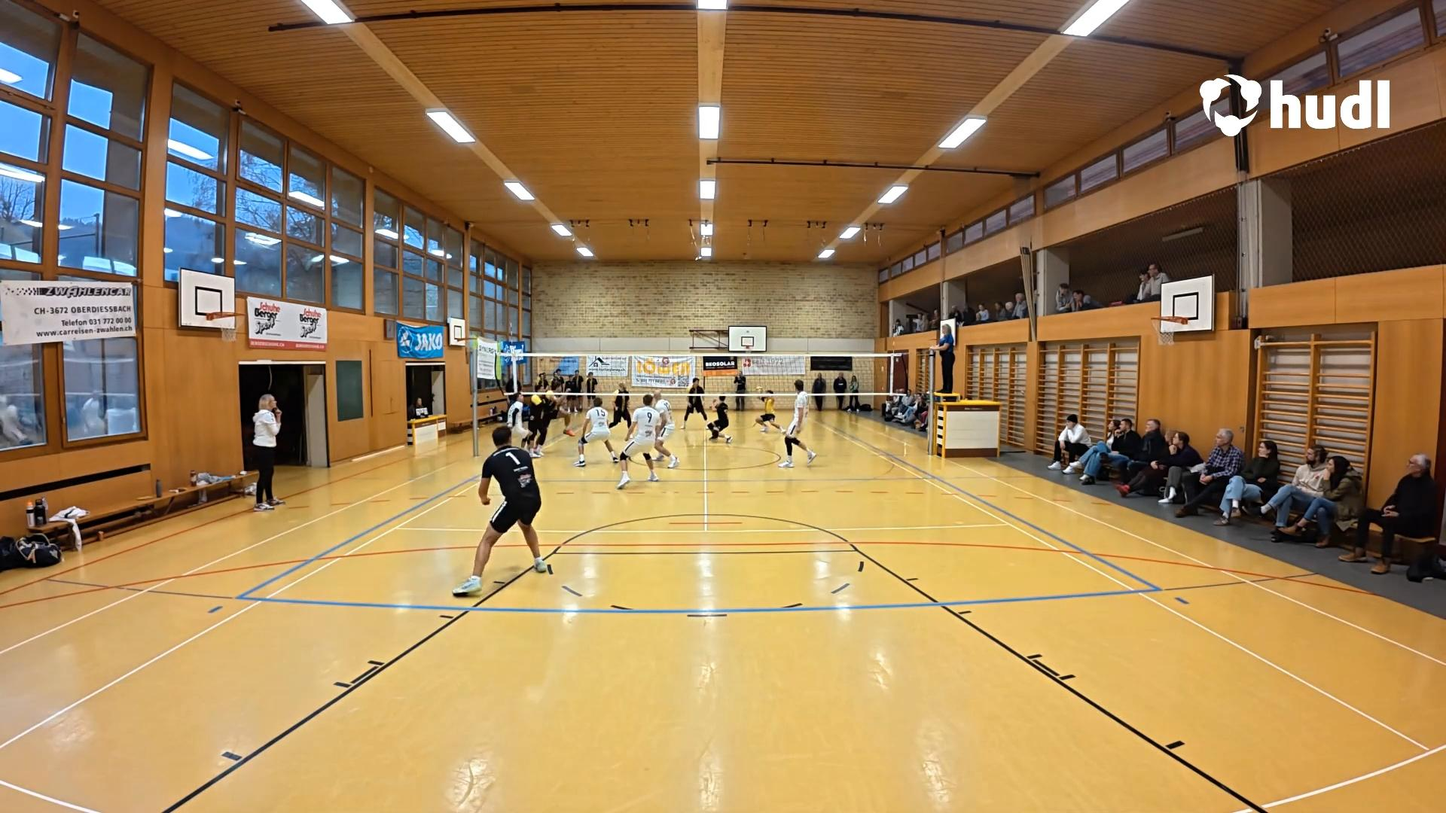difesa: (752, 389, 782, 443)
